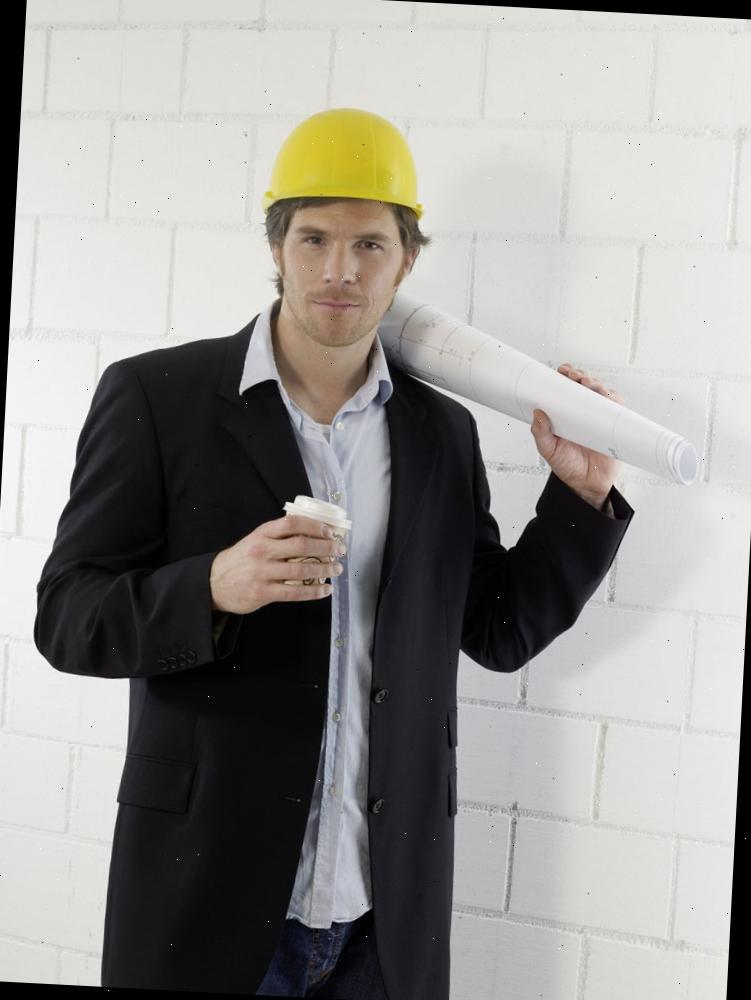helmet: (257, 105, 428, 230)
no_wear: (75, 360, 499, 900)
